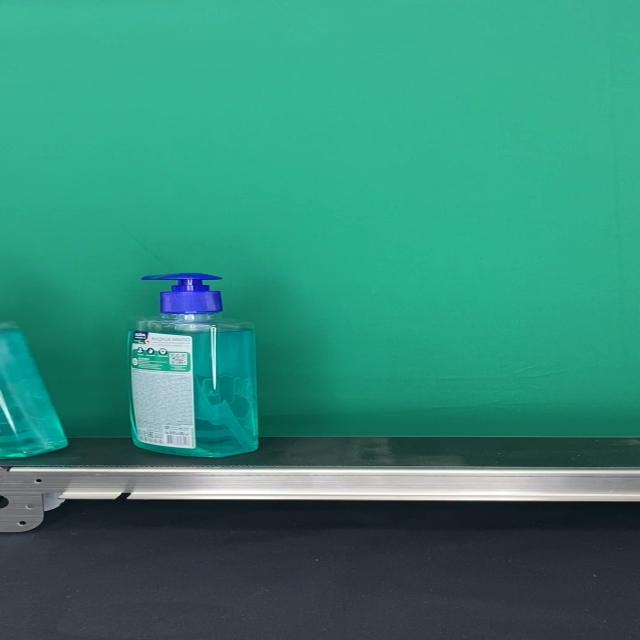Bottle: (126, 272, 260, 458)
Cap: (140, 273, 223, 315)
